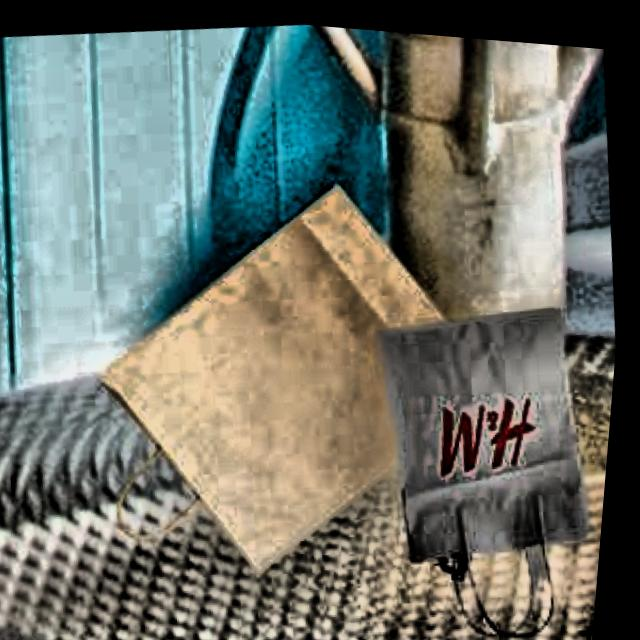Paper-bag: (45, 137, 525, 633), (353, 270, 624, 640)
